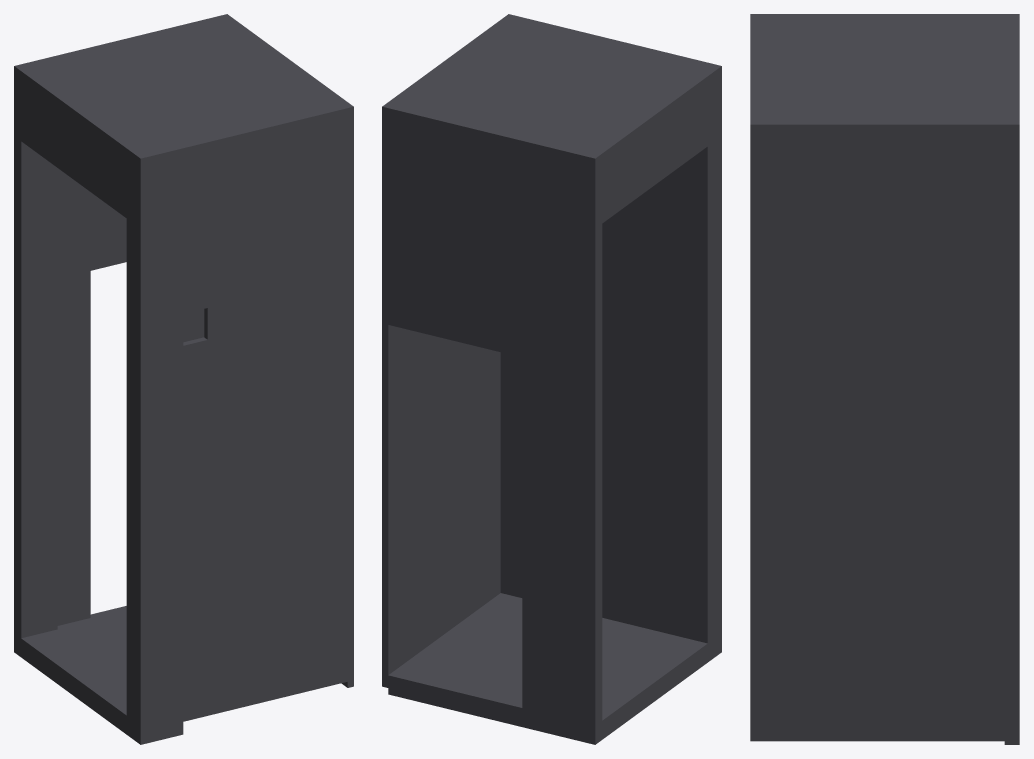
File: Laboratorio-7.obj
The picture shows the model from 3 angles, left to right: view 1: azimuth 30°, elevation 25°; view 2: azimuth 150°, elevation 25°; view 3: azimuth 270°, elevation 25°; orthographic projection. The views are drawn at different scales.
Bounding box in the file's own units: 3.5 × 9.2 × 3.6.
1 material, 1 textured.
